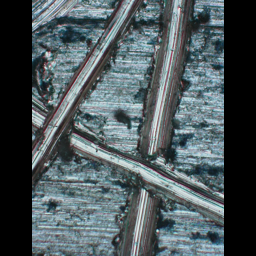d: (32, 88, 223, 231), (33, 0, 144, 190), (114, 0, 196, 254)
